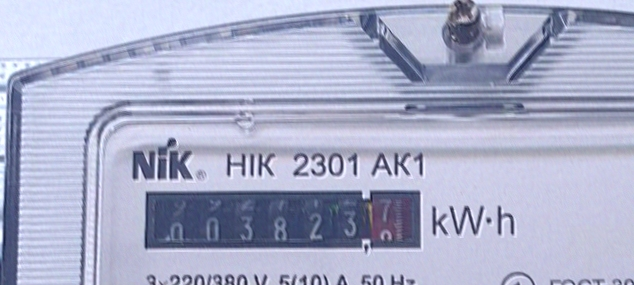0: (202, 213, 223, 240), (168, 217, 187, 240)
2: (307, 209, 327, 241)
3: (342, 207, 361, 237), (238, 211, 257, 240)
7: (379, 196, 395, 225)
8: (272, 212, 290, 241)
9: (170, 196, 188, 215)
screen: (138, 181, 427, 257)
